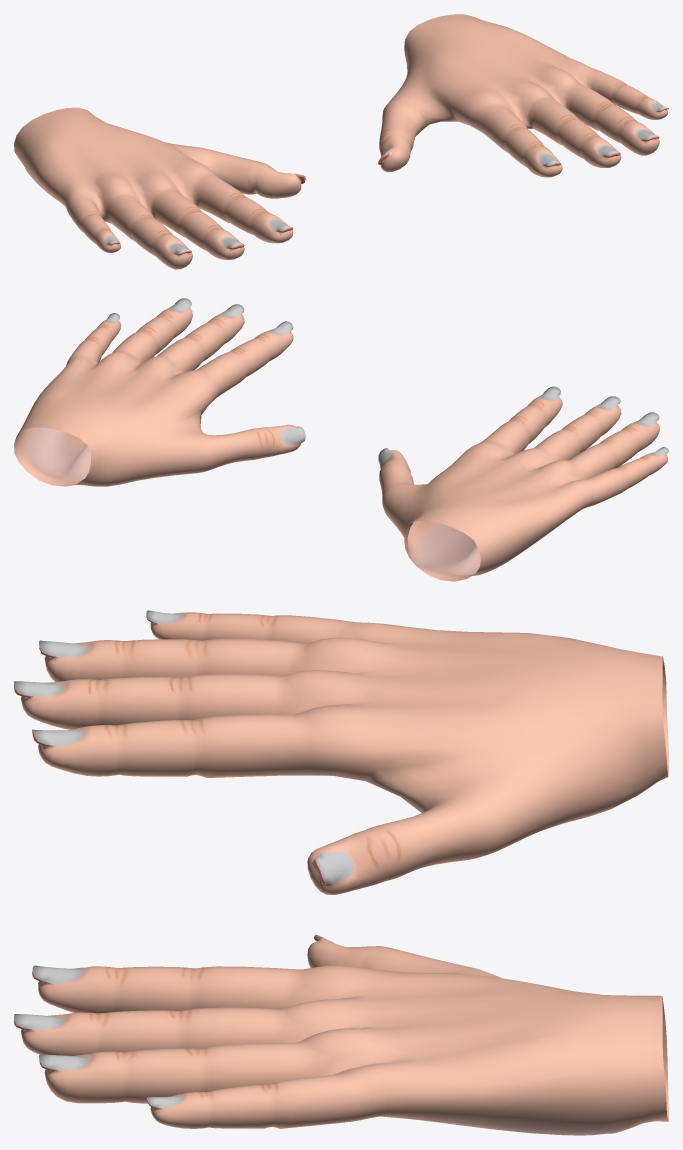
The model's file is hand.obj.
3 renders of one model, top to bottom at view 1: azimuth 30°, elevation 25°; view 2: azimuth 150°, elevation 25°; view 3: azimuth 270°, elevation 25°, orthographic. The views are drawn at different scales.
Parts seen in each view (by area): view 1: Female_Hand_Skin_Female_0; view 2: Female_Hand_Skin_Female_0; view 3: Female_Hand_Skin_Female_0.
Part boxes in pixels (x1,y1,x2,y2): Female_Hand_Skin_Female_0: (14, 14, 668, 269); Female_Hand_Skin_Female_0: (14, 298, 668, 581); Female_Hand_Skin_Female_0: (14, 610, 668, 1135).
Bounding box in the file's own units: 0.2774 × 0.031 × 0.154.
Materials: 2 (1 with a texture image).
